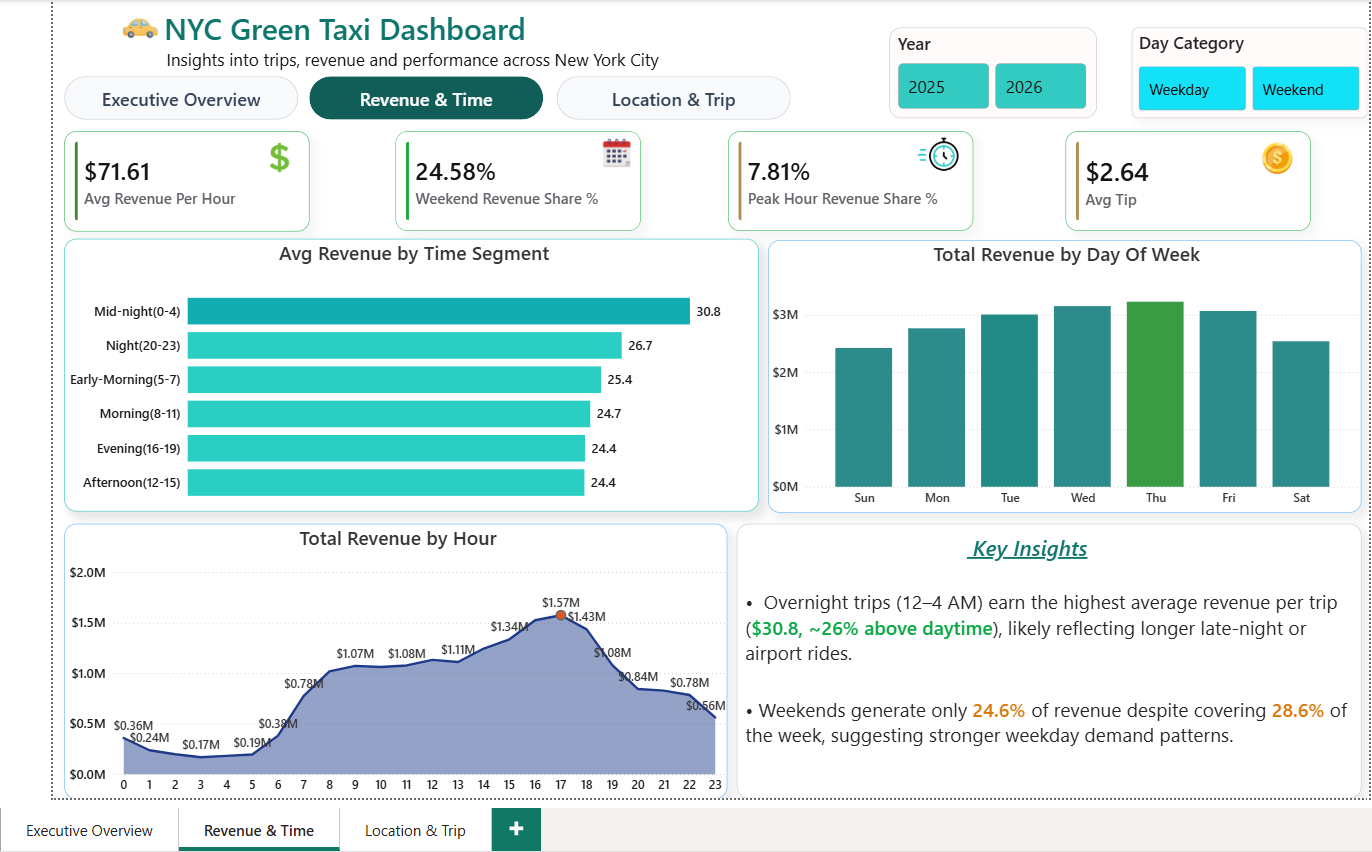

This screenshot's page, from the dashboard's own definition file:
{"tool":"powerbi","page":{"name":"Revenue & Time ","canvas":[1650,1000],"ordinal":1},"visuals":[{"type":"cardVisual","fields":{"Data":["_Measure .Avg Revenue Per Trip"]},"box":[443.3,168.1,307,125],"z":0},{"type":"image","box":[250.5,180,47,34.4],"z":1000},{"type":"cardVisual","fields":{"Data":["_Measure .Avg Revenue Per Hour"]},"box":[13.6,164.7,307.4,125.7],"z":2000},{"type":"cardVisual","fields":{"Data":["_Measure .Peak Hour Revenue Share %"]},"box":[825.4,164.7,307,125],"z":3000},{"type":"clusteredColumnChart","fields":{"Category":["Calender Table.Day Of Week"],"Y":["_Measure .Total Revenue"]},"box":[895.4,300.6,747,350],"z":4000},{"type":"cardVisual","fields":{"Data":["_Measure .Avg Tip"]},"box":[1268,164.4,307,125],"z":5000},{"type":"advancedSlicerVisual","fields":{"Values":["Calender Table.Day Category"]},"box":[1343.1,25,295.5,113.8],"z":6000},{"type":"textbox","box":[61.1,0,763.9,111.1],"z":7000},{"type":"image","box":[73.6,1.6,68.9,45.4],"z":8000},{"type":"actionButton","box":[321,95.1,293,54.3],"z":9000},{"type":"actionButton","box":[13.6,95.1,293,54.3],"z":10000},{"type":"actionButton","box":[630.1,95.1,293,54.3],"z":11000},{"type":"textbox","box":[923.6,655.9,722,344.4],"z":12000},{"type":"image","box":[1516.9,176.9,45,42.5],"z":13000},{"type":"image","box":[1066.1,175.3,45,42],"z":14000},{"type":"image","box":[261.4,183.2,45,42],"z":15000},{"type":"advancedSlicerVisual","fields":{"Values":["Calender Table.Year"]},"box":[1066.1,23.5,259.9,113.8],"z":16000},{"type":"clusteredBarChart","fields":{"Category":["green_taxi.time_segment"],"Y":["_Measure .Avg Revenue"]},"box":[9.4,300.6,881,350],"z":17000},{"type":"lineChart","fields":{"Category":["green_taxi.Hour Label"],"Y":["_Measure .Total Revenue"]},"box":[7.8,655.9,908,344.4],"z":18000},{"type":"image","box":[689.5,180,45,42],"z":19000}]}

Visuals, with their boxes in screenshot pixels (x1, y1, x2, y2), scaled from the page's 1650x1000 canvas onto the 1372x852 screenshot:
cardVisual - _Measure .Avg Revenue Per Trip: {"x1": 369, "y1": 143, "x2": 624, "y2": 250}
image: {"x1": 208, "y1": 153, "x2": 247, "y2": 183}
cardVisual - _Measure .Avg Revenue Per Hour: {"x1": 11, "y1": 140, "x2": 267, "y2": 247}
cardVisual - _Measure .Peak Hour Revenue Share %: {"x1": 686, "y1": 140, "x2": 942, "y2": 247}
clusteredColumnChart - Calender Table.Day Of Week x _Measure .Total Revenue: {"x1": 745, "y1": 256, "x2": 1366, "y2": 554}
cardVisual - _Measure .Avg Tip: {"x1": 1054, "y1": 140, "x2": 1310, "y2": 247}
advancedSlicerVisual - Calender Table.Day Category: {"x1": 1117, "y1": 21, "x2": 1363, "y2": 118}
textbox: {"x1": 51, "y1": 0, "x2": 686, "y2": 95}
image: {"x1": 61, "y1": 1, "x2": 118, "y2": 40}
actionButton: {"x1": 267, "y1": 81, "x2": 511, "y2": 127}
actionButton: {"x1": 11, "y1": 81, "x2": 255, "y2": 127}
actionButton: {"x1": 524, "y1": 81, "x2": 768, "y2": 127}
textbox: {"x1": 768, "y1": 559, "x2": 1368, "y2": 851}
image: {"x1": 1261, "y1": 151, "x2": 1299, "y2": 187}
image: {"x1": 886, "y1": 149, "x2": 924, "y2": 185}
image: {"x1": 217, "y1": 156, "x2": 255, "y2": 192}
advancedSlicerVisual - Calender Table.Year: {"x1": 886, "y1": 20, "x2": 1103, "y2": 117}
clusteredBarChart - green_taxi.time_segment x _Measure .Avg Revenue: {"x1": 8, "y1": 256, "x2": 740, "y2": 554}
lineChart - green_taxi.Hour Label x _Measure .Total Revenue: {"x1": 6, "y1": 559, "x2": 762, "y2": 851}
image: {"x1": 573, "y1": 153, "x2": 611, "y2": 189}
